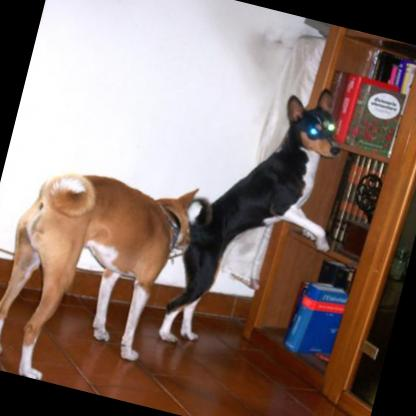basenji: (152, 59, 367, 375), (0, 150, 210, 407)
